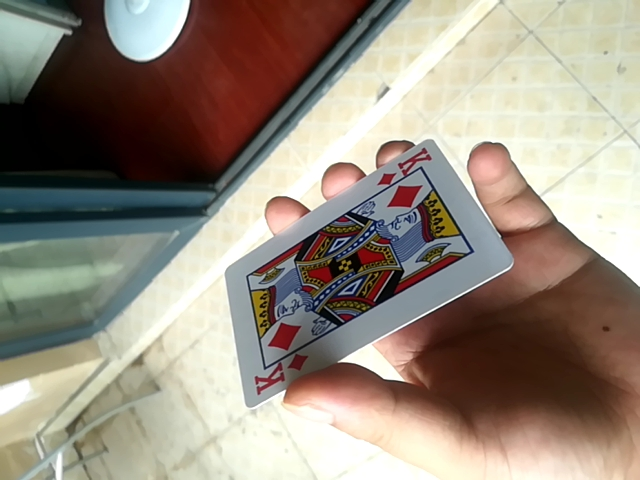fk k: (221, 138, 510, 413)
